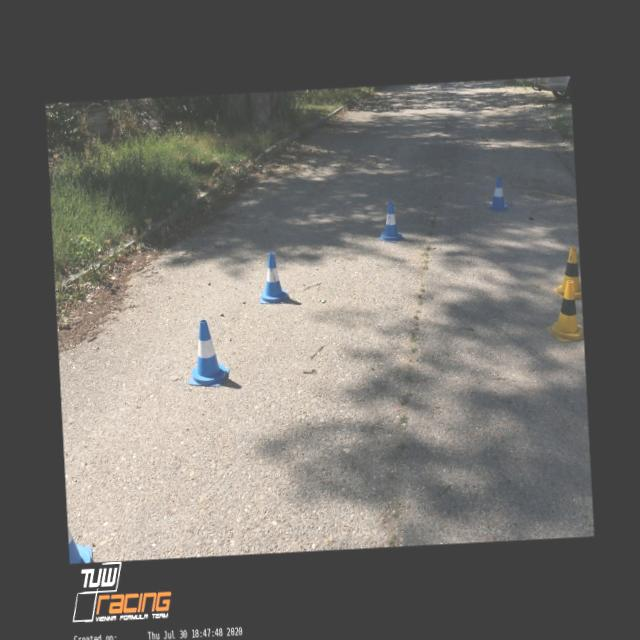blue_cone: (186, 320, 231, 388), (256, 252, 288, 304), (376, 201, 406, 244), (68, 523, 94, 564), (486, 175, 510, 212)
yellow_cone: (545, 280, 584, 342), (552, 246, 582, 300)
